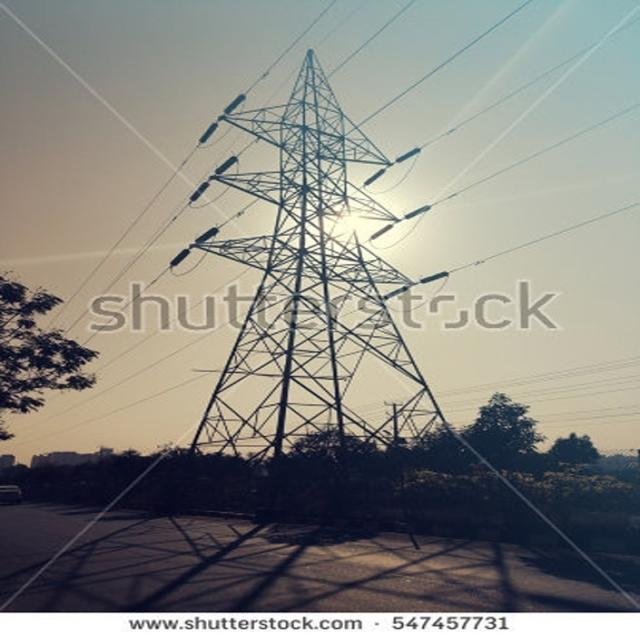non-critical vegetation: (160, 43, 479, 517)
